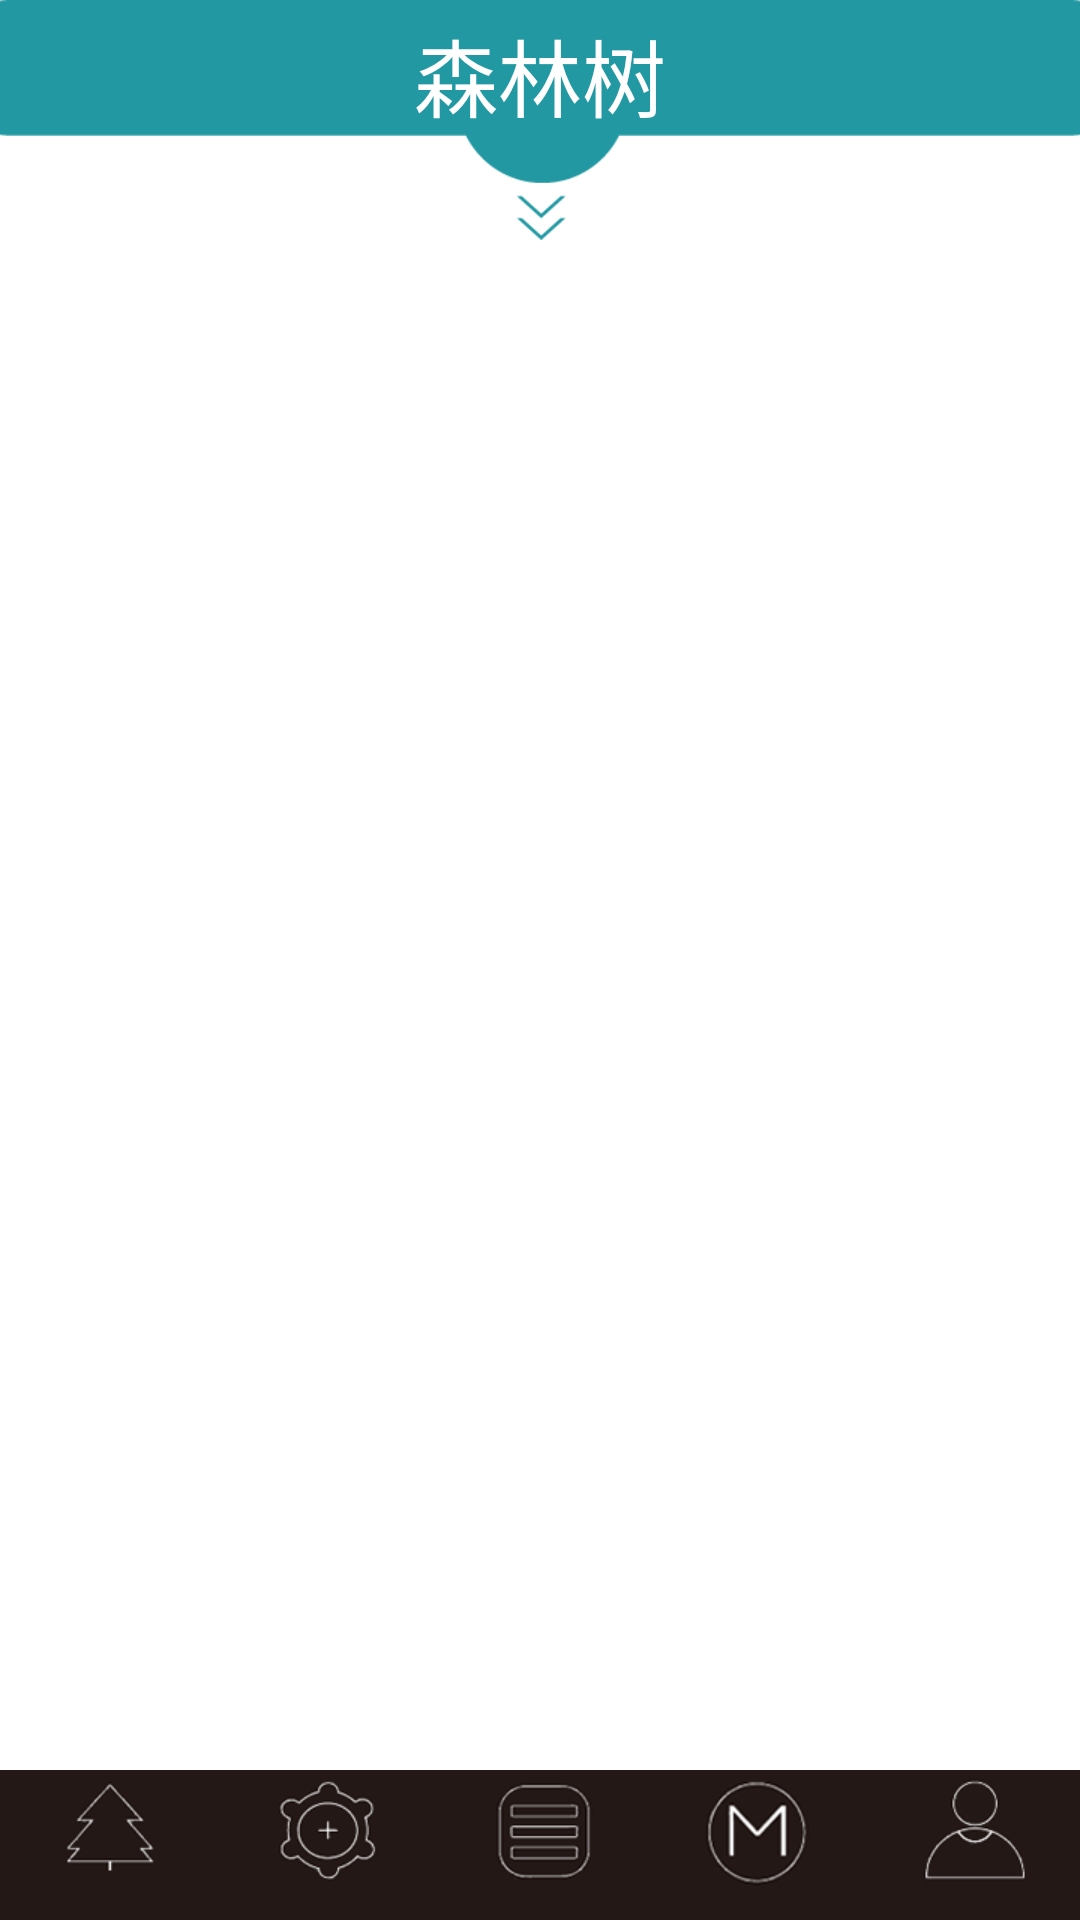

Named icons in this screenshot (1080px x 1920px) and their centers, (x=x, y=y):
setting: (x=327, y=1830)
tree: (x=110, y=1827)
user: (x=975, y=1830)
